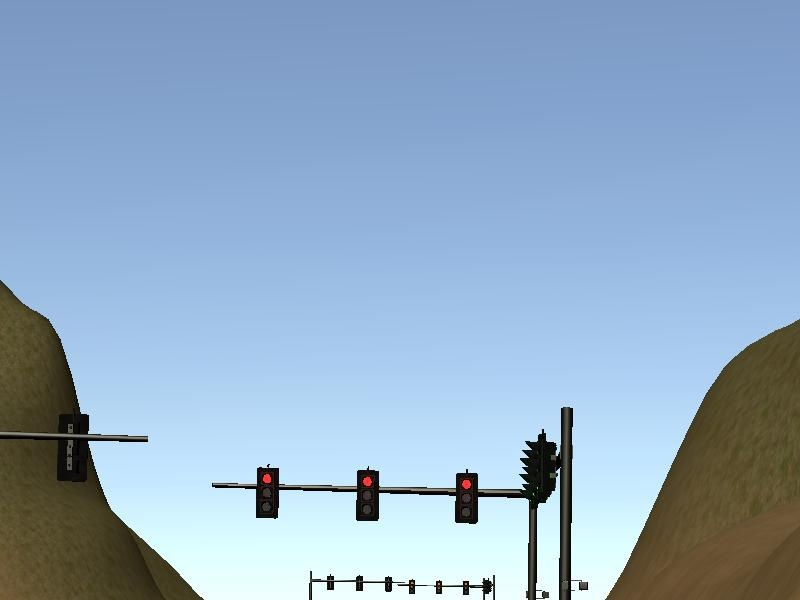red: (257, 466, 280, 519), (456, 473, 478, 523), (358, 470, 378, 523)
